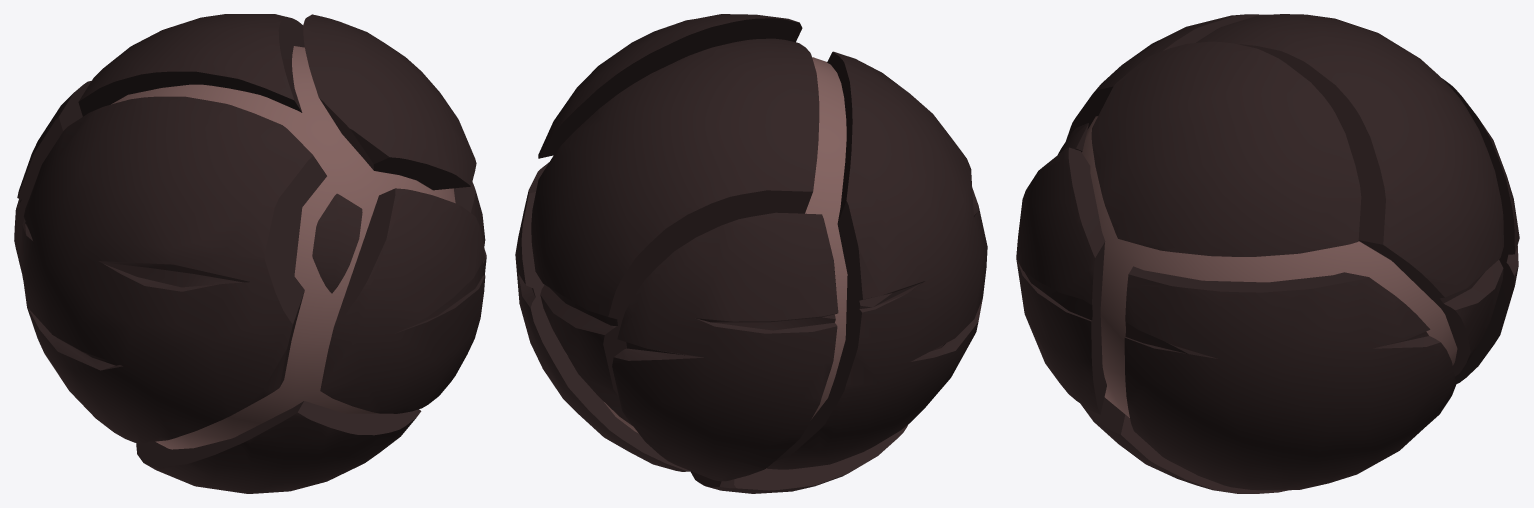
File: quaternius-ultimate-space-planet-11-transformed.glb
The picture shows the model from 3 angles, left to right: view 1: azimuth 30°, elevation 25°; view 2: azimuth 150°, elevation 25°; view 3: azimuth 270°, elevation 25°; orthographic projection. The views are drawn at different scales.
Visible parts, largest first — view 1: Planet_11; view 2: Planet_11; view 3: Planet_11.
Boxes of the visible parts, x1,y1,x2,y2 form: Planet_11: (14,14,486,493); Planet_11: (515,14,987,493); Planet_11: (1016,14,1519,493).
Bounding box in the file's own units: 5.59 × 5.67 × 5.74.
1 material, 1 textured.
